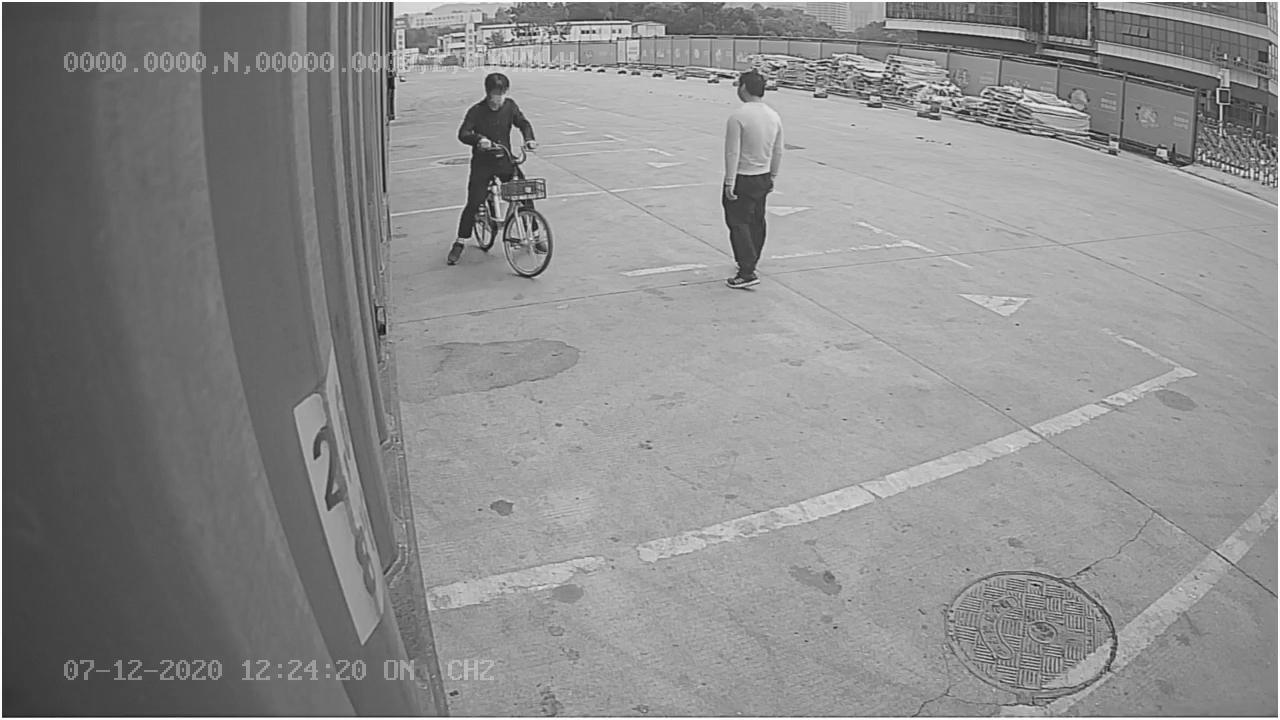person: (716, 69, 785, 295)
